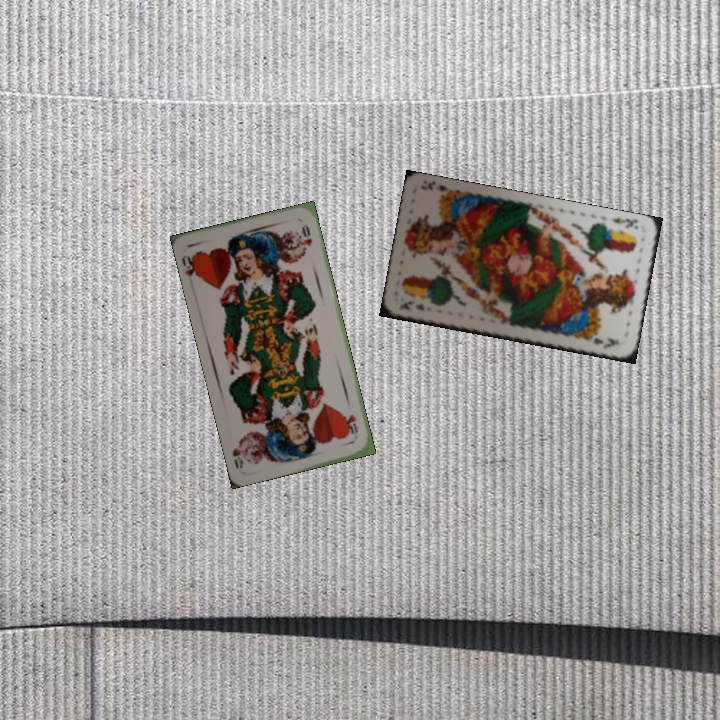EK: (608, 213, 641, 232), (395, 297, 427, 313)
HO: (178, 250, 204, 283), (342, 410, 361, 436)
